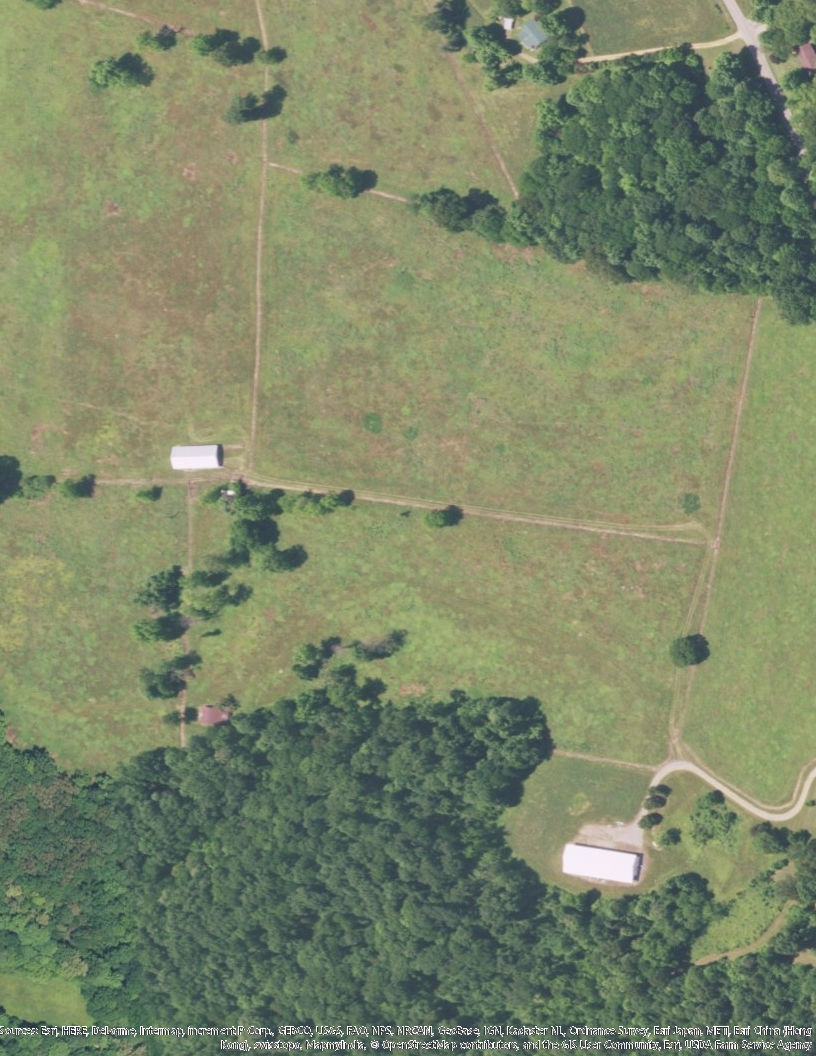cafo: (559, 841, 649, 890), (167, 443, 228, 472)
